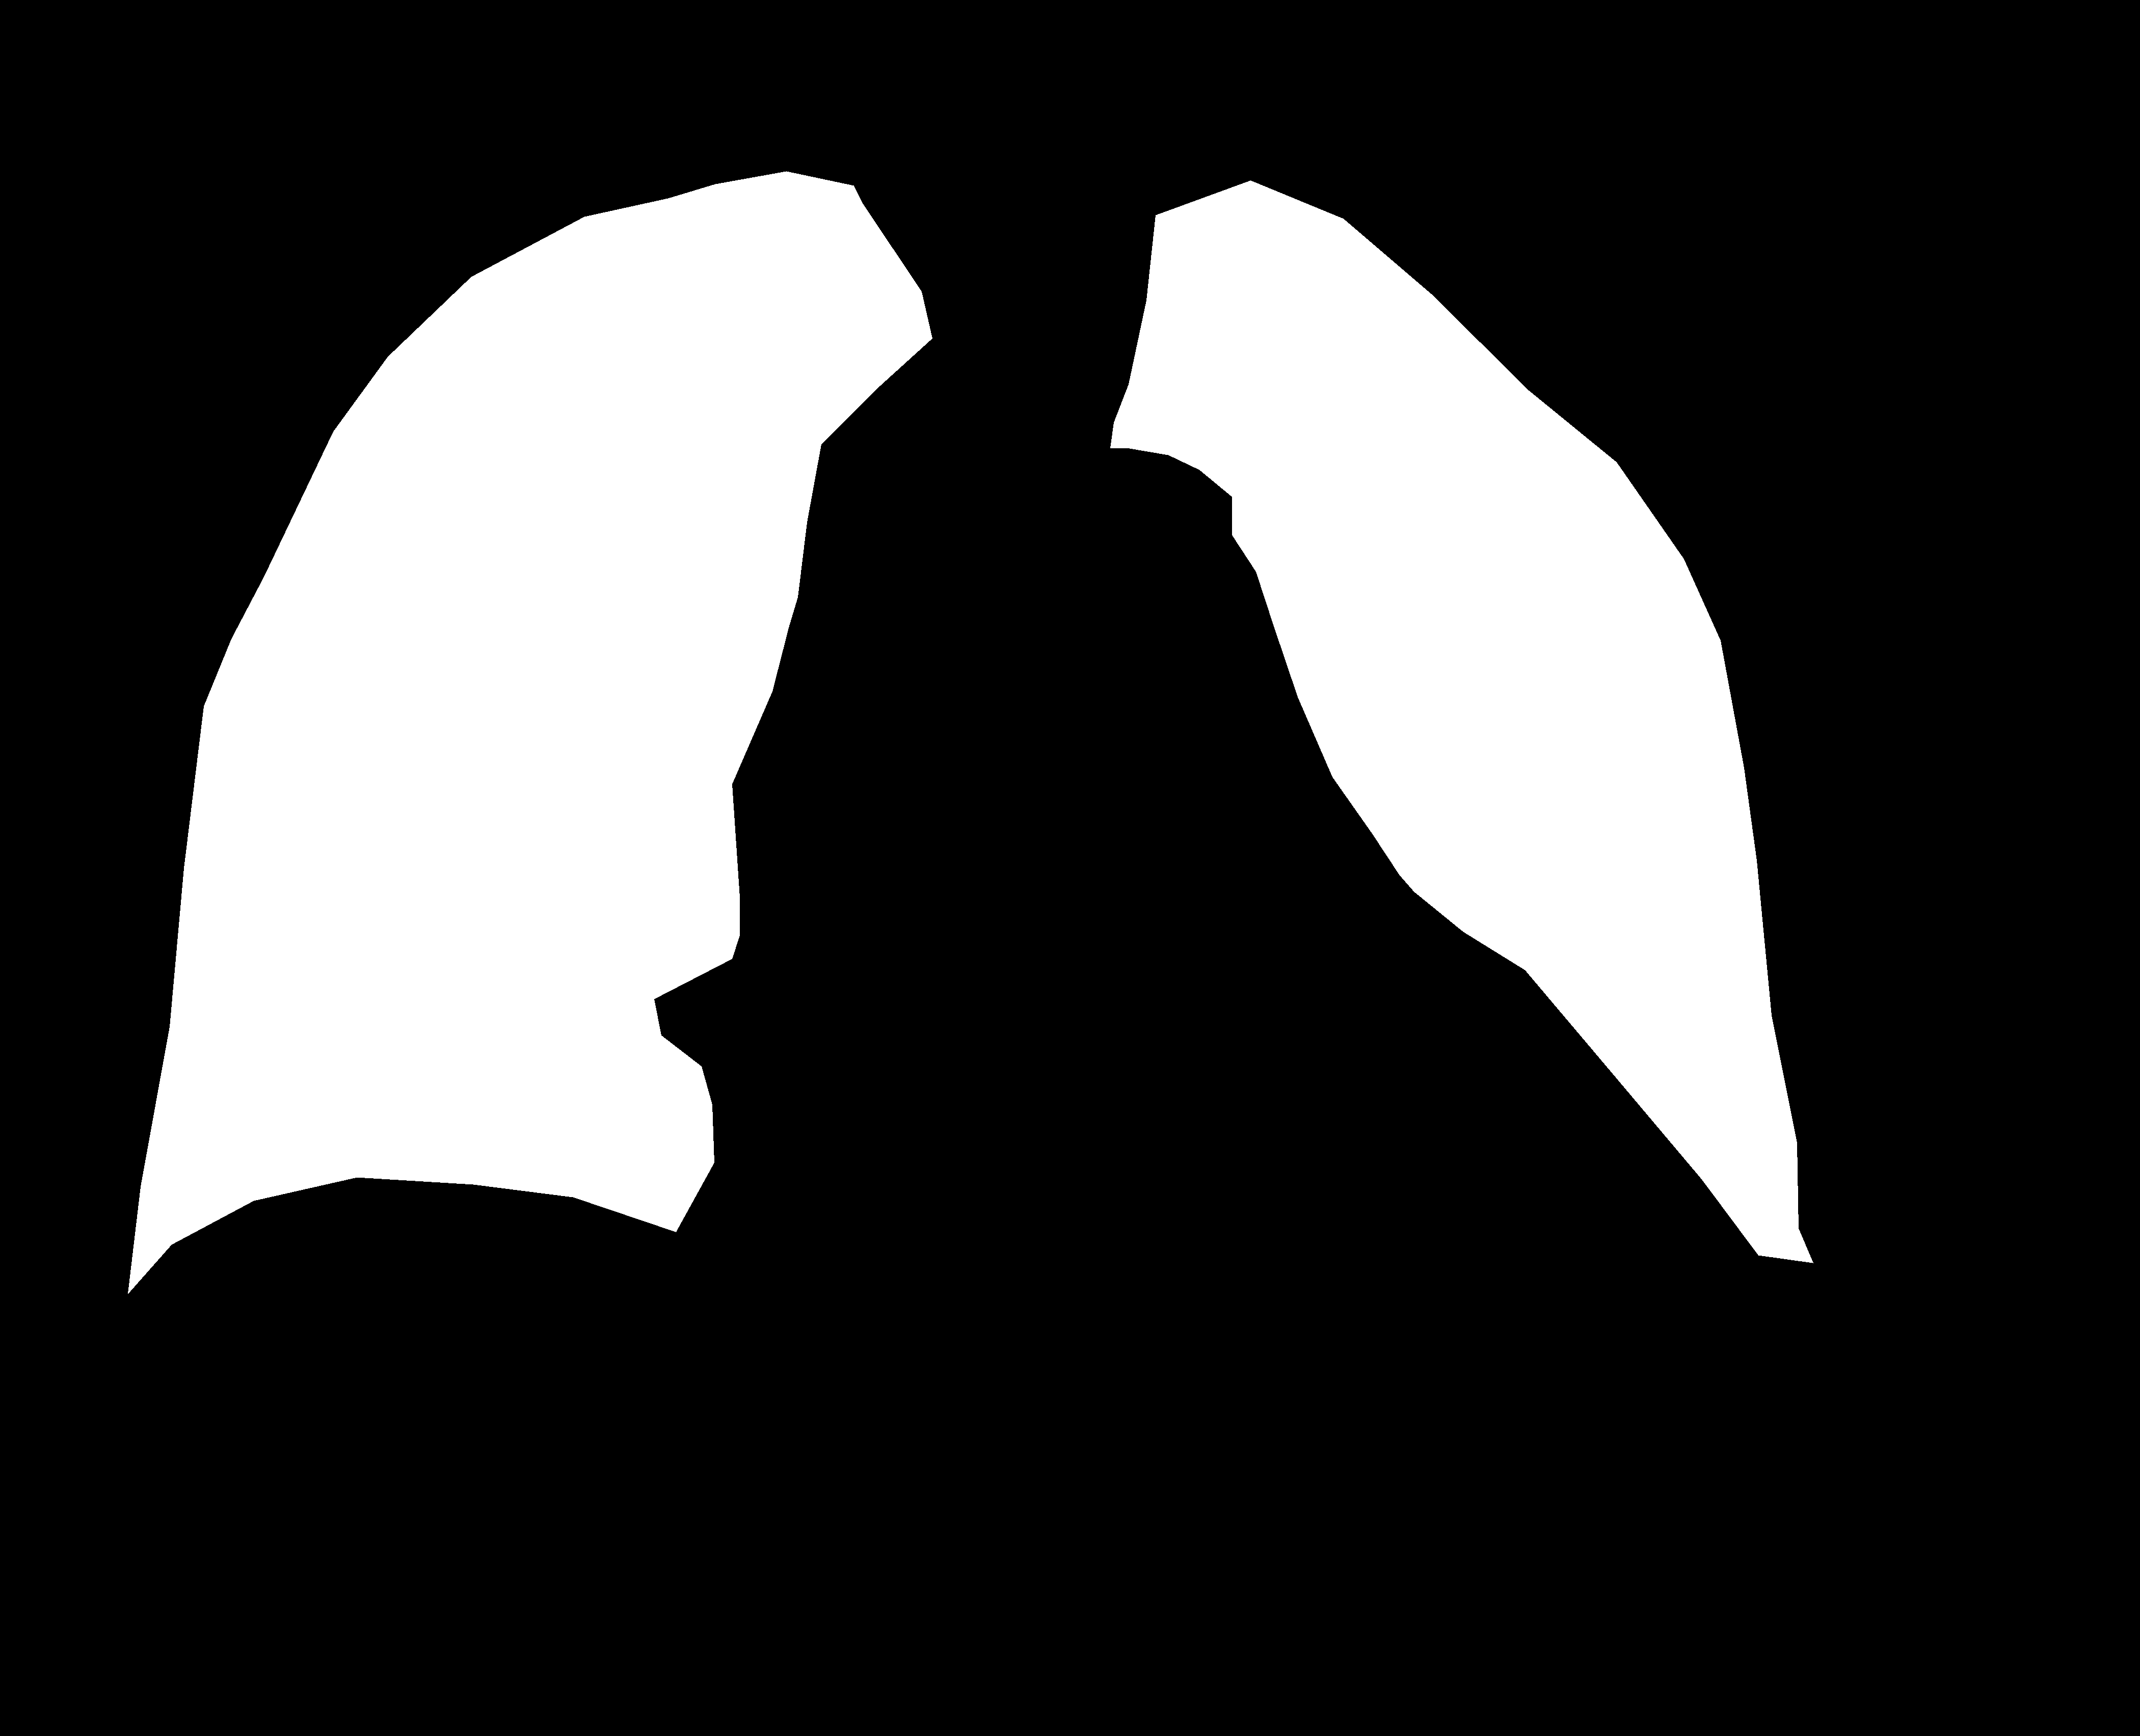heart: (696, 648, 1748, 1352)
left_lung: (128, 172, 932, 1293)
right_lung: (1111, 181, 1812, 1263)
